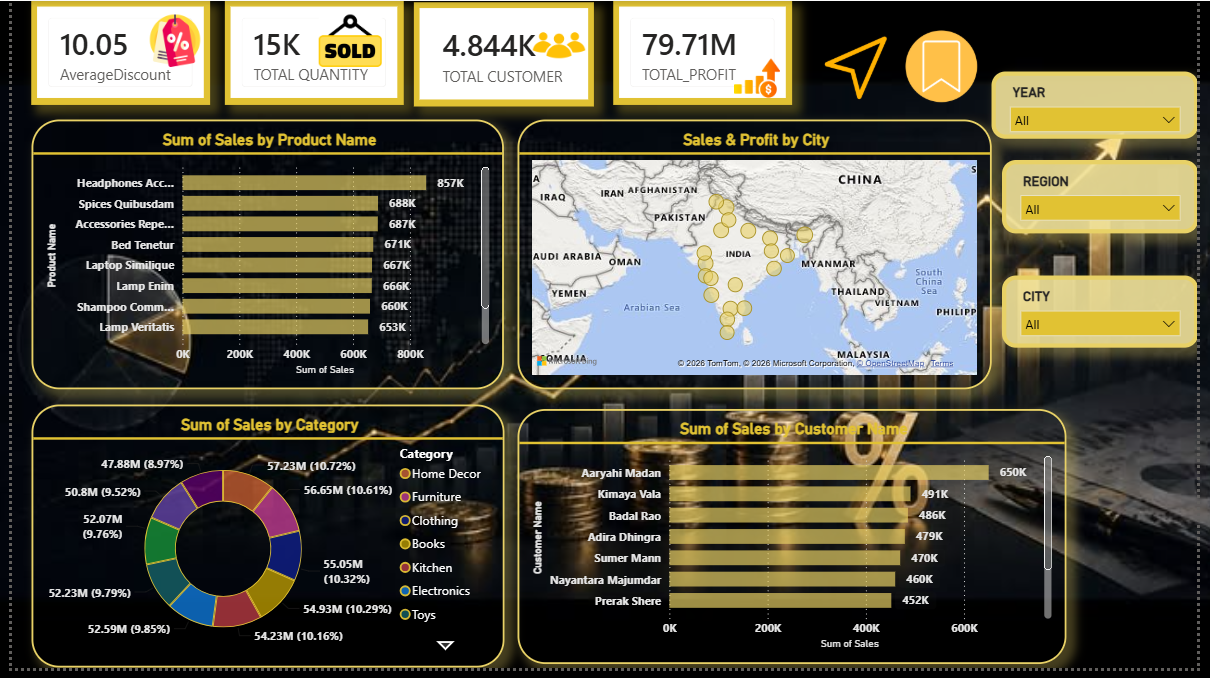

Layout of this report page (visuals, bound fields, positions):
{"tool":"powerbi","page":{"name":"Page 2","canvas":[1280,720],"ordinal":1},"visuals":[{"type":"clusteredBarChart","fields":{"Y":["Sum(Ecommerce_Sales_Data_2024_2025.Sales)"],"Category":["Ecommerce_Sales_Data_2024_2025.Product Name"]},"box":[21.2,127.2,510.6,292],"z":0},{"type":"donutChart","fields":{"Category":["Ecommerce_Sales_Data_2024_2025.Category"],"Y":["Sum(Ecommerce_Sales_Data_2024_2025.Sales)"]},"box":[21.2,435.6,510.6,283.8],"z":1000},{"type":"clusteredBarChart","fields":{"Y":["Sum(Ecommerce_Sales_Data_2024_2025.Sales)"],"Category":["Ecommerce_Sales_Data_2024_2025.Customer Name"]},"box":[545.7,440.4,592.6,275.3],"z":2000},{"type":"map","fields":{"Category":["Ecommerce_Sales_Data_2024_2025.City"],"Size":["Ecommerce_Sales_Data_2024_2025.Total_Orders"]},"box":[545.7,127.9,511.7,291.5],"z":3000},{"type":"slicer","fields":{"Values":["Ecommerce_Sales_Data_2024_2025.Order Date.Variation.Date Hierarchy.Year"]},"box":[1057.4,76.1,223.5,72.9],"z":4000},{"type":"slicer","fields":{"Values":["Ecommerce_Sales_Data_2024_2025.Region"]},"box":[1068.7,171.6,212.1,79.3],"z":5000},{"type":"slicer","fields":{"Values":["Ecommerce_Sales_Data_2024_2025.City"]},"box":[1068.7,296.3,212.1,77.7],"z":6000},{"type":"cardVisual","fields":{"Data":["Sum(Ecommerce_Sales_Data_2024_2025.Quantity)"]},"box":[229.9,0,192.7,111.7],"z":7000},{"type":"cardVisual","fields":{"Data":["Avg(Ecommerce_Sales_Data_2024_2025.Discount)"]},"box":[21,0,192.7,111.7],"z":8000},{"type":"image","box":[137.6,14.6,76.1,56.7],"z":9000},{"type":"image","box":[327.1,14.6,76.1,56.7],"z":10000},{"type":"image","box":[859.8,30.8,102,82.6],"z":11000},{"type":"image","box":[948.9,27.5,108.5,85.8],"z":12000},{"type":"cardVisual","fields":{"Data":["Count(Ecommerce_Sales_Data_2024_2025.Customer Name)"]},"box":[434,1.6,194.3,111.7],"z":13000},{"type":"cardVisual","fields":{"Data":["Sum(Ecommerce_Sales_Data_2024_2025.Profit)"]},"box":[649.3,0,192.7,111.7],"z":14000}]}

Visuals, with their boxes in screenshot pixels (x1, y1, x2, y2), scaled from the page's 1280x720 canvas onto the 1210x678 screenshot:
clusteredBarChart - Sum(Ecommerce_Sales_Data_2024_2025.Sales) x Ecommerce_Sales_Data_2024_2025.Product Name: bbox=[20, 120, 503, 395]
donutChart - Ecommerce_Sales_Data_2024_2025.Category x Sum(Ecommerce_Sales_Data_2024_2025.Sales): bbox=[20, 410, 503, 677]
clusteredBarChart - Sum(Ecommerce_Sales_Data_2024_2025.Sales) x Ecommerce_Sales_Data_2024_2025.Customer Name: bbox=[516, 415, 1076, 674]
map - Ecommerce_Sales_Data_2024_2025.City x Ecommerce_Sales_Data_2024_2025.Total_Orders: bbox=[516, 120, 1000, 395]
slicer - Ecommerce_Sales_Data_2024_2025.Order Date.Variation.Date Hierarchy.Year: bbox=[1000, 72, 1209, 140]
slicer - Ecommerce_Sales_Data_2024_2025.Region: bbox=[1010, 162, 1209, 236]
slicer - Ecommerce_Sales_Data_2024_2025.City: bbox=[1010, 279, 1209, 352]
cardVisual - Sum(Ecommerce_Sales_Data_2024_2025.Quantity): bbox=[217, 0, 399, 105]
cardVisual - Avg(Ecommerce_Sales_Data_2024_2025.Discount): bbox=[20, 0, 202, 105]
image: bbox=[130, 14, 202, 67]
image: bbox=[309, 14, 381, 67]
image: bbox=[813, 29, 909, 107]
image: bbox=[897, 26, 1000, 107]
cardVisual - Count(Ecommerce_Sales_Data_2024_2025.Customer Name): bbox=[410, 2, 594, 107]
cardVisual - Sum(Ecommerce_Sales_Data_2024_2025.Profit): bbox=[614, 0, 796, 105]
